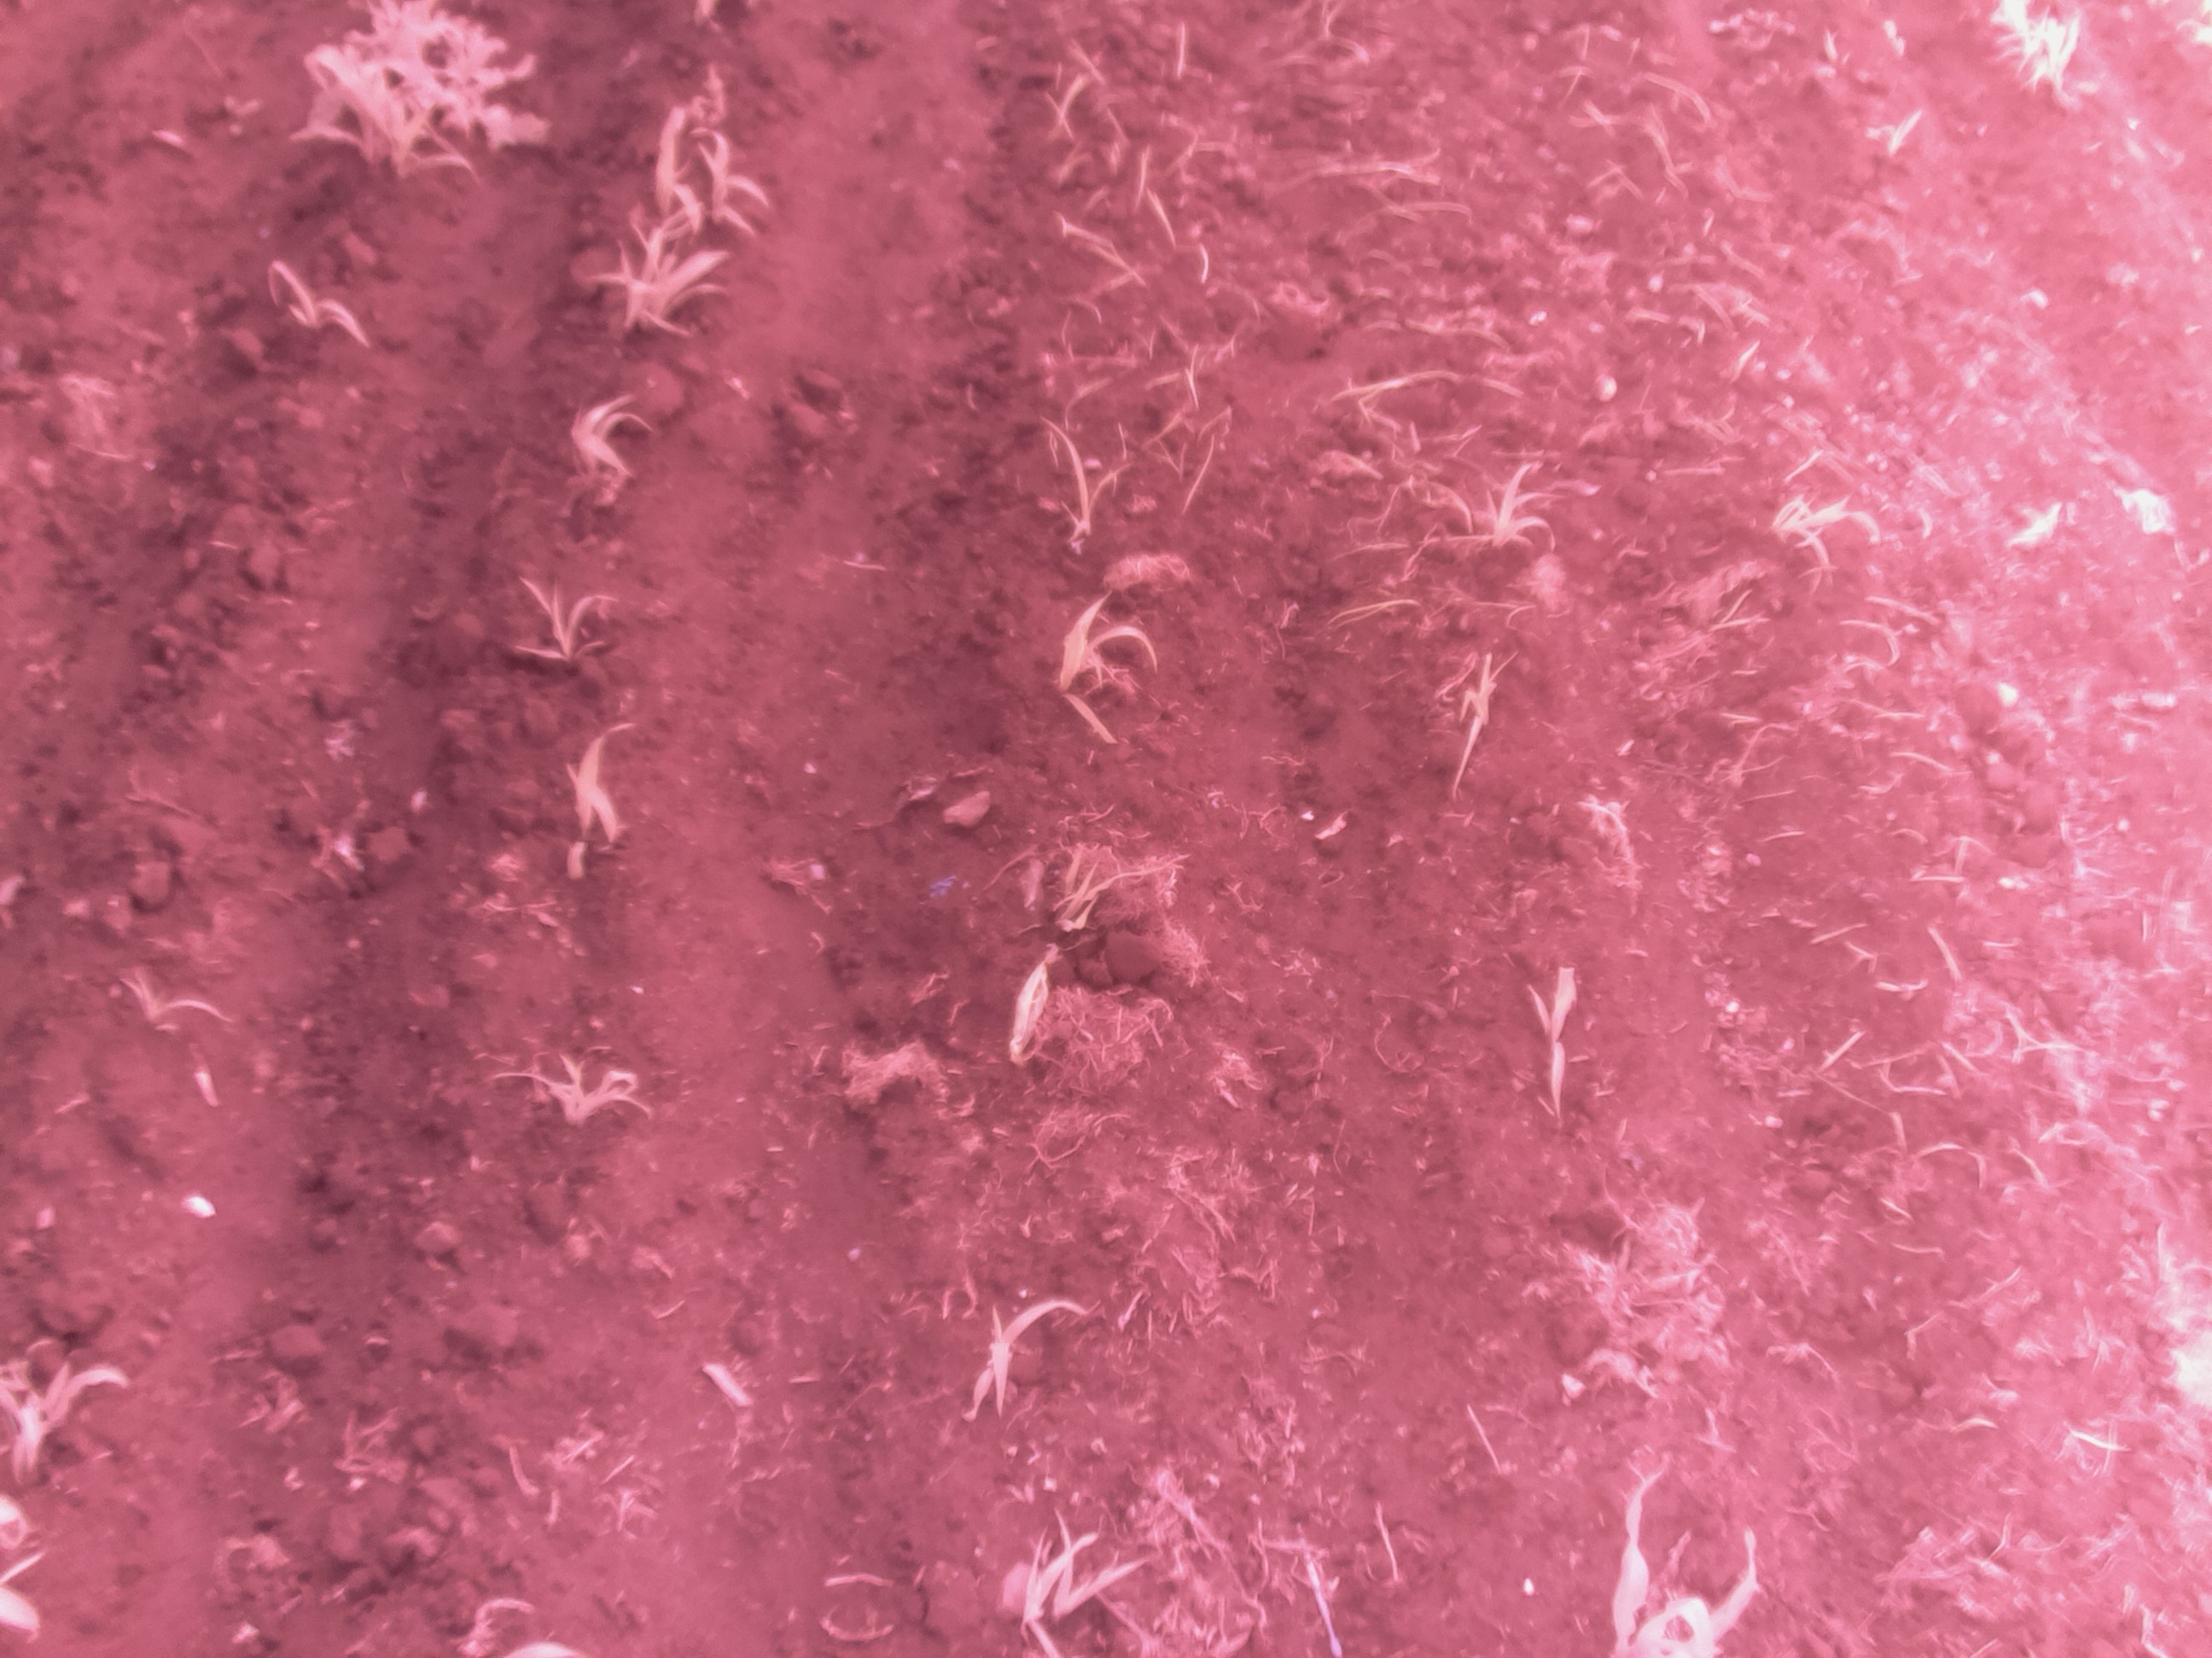Maiz: (1583, 1461, 1775, 1658), (355, 70, 482, 225), (0, 1345, 141, 1484), (961, 1273, 1087, 1426), (482, 1036, 664, 1137), (296, 24, 402, 190), (496, 559, 627, 677), (1054, 592, 1153, 738), (596, 225, 714, 343), (1761, 463, 1890, 564), (1038, 413, 1127, 556), (1514, 958, 1587, 1127), (685, 110, 772, 249), (254, 256, 369, 361), (552, 714, 634, 855), (106, 958, 232, 1048), (1991, 0, 2085, 113), (648, 94, 718, 240), (1440, 644, 1498, 820), (573, 392, 662, 502), (1480, 446, 1561, 564), (1000, 933, 1055, 1087), (1872, 103, 1930, 179), (2001, 495, 2062, 554)
